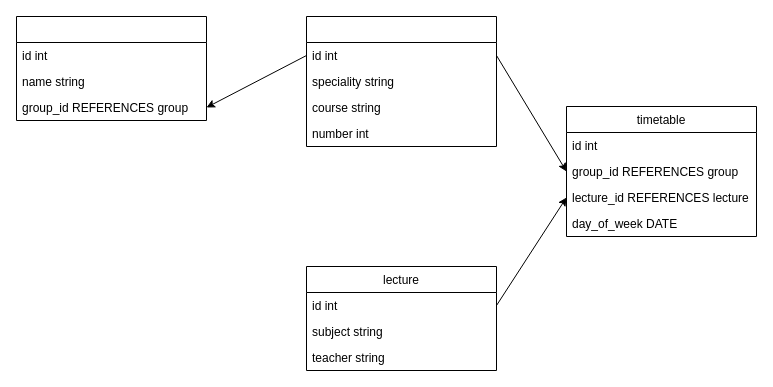
Some shapes in this 773 by 387 pixel diagram are drawn without their labels. The box of each missing label's shape, as (x1, y1, x2, y2) in pixels:
Group: (306, 16, 496, 146)
Student: (16, 16, 206, 120)
